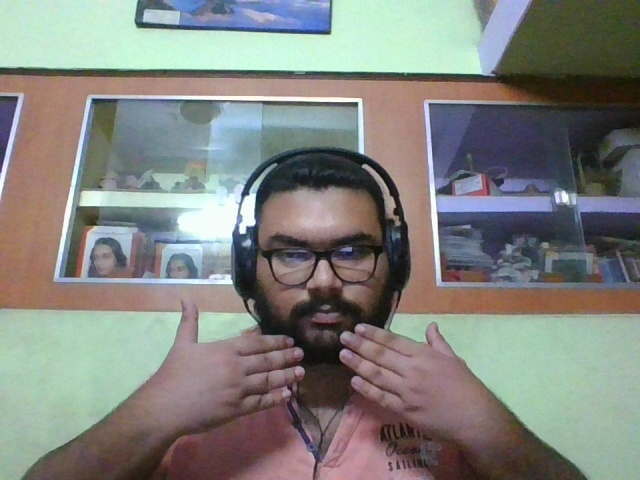thankyou: (150, 297, 517, 440)
